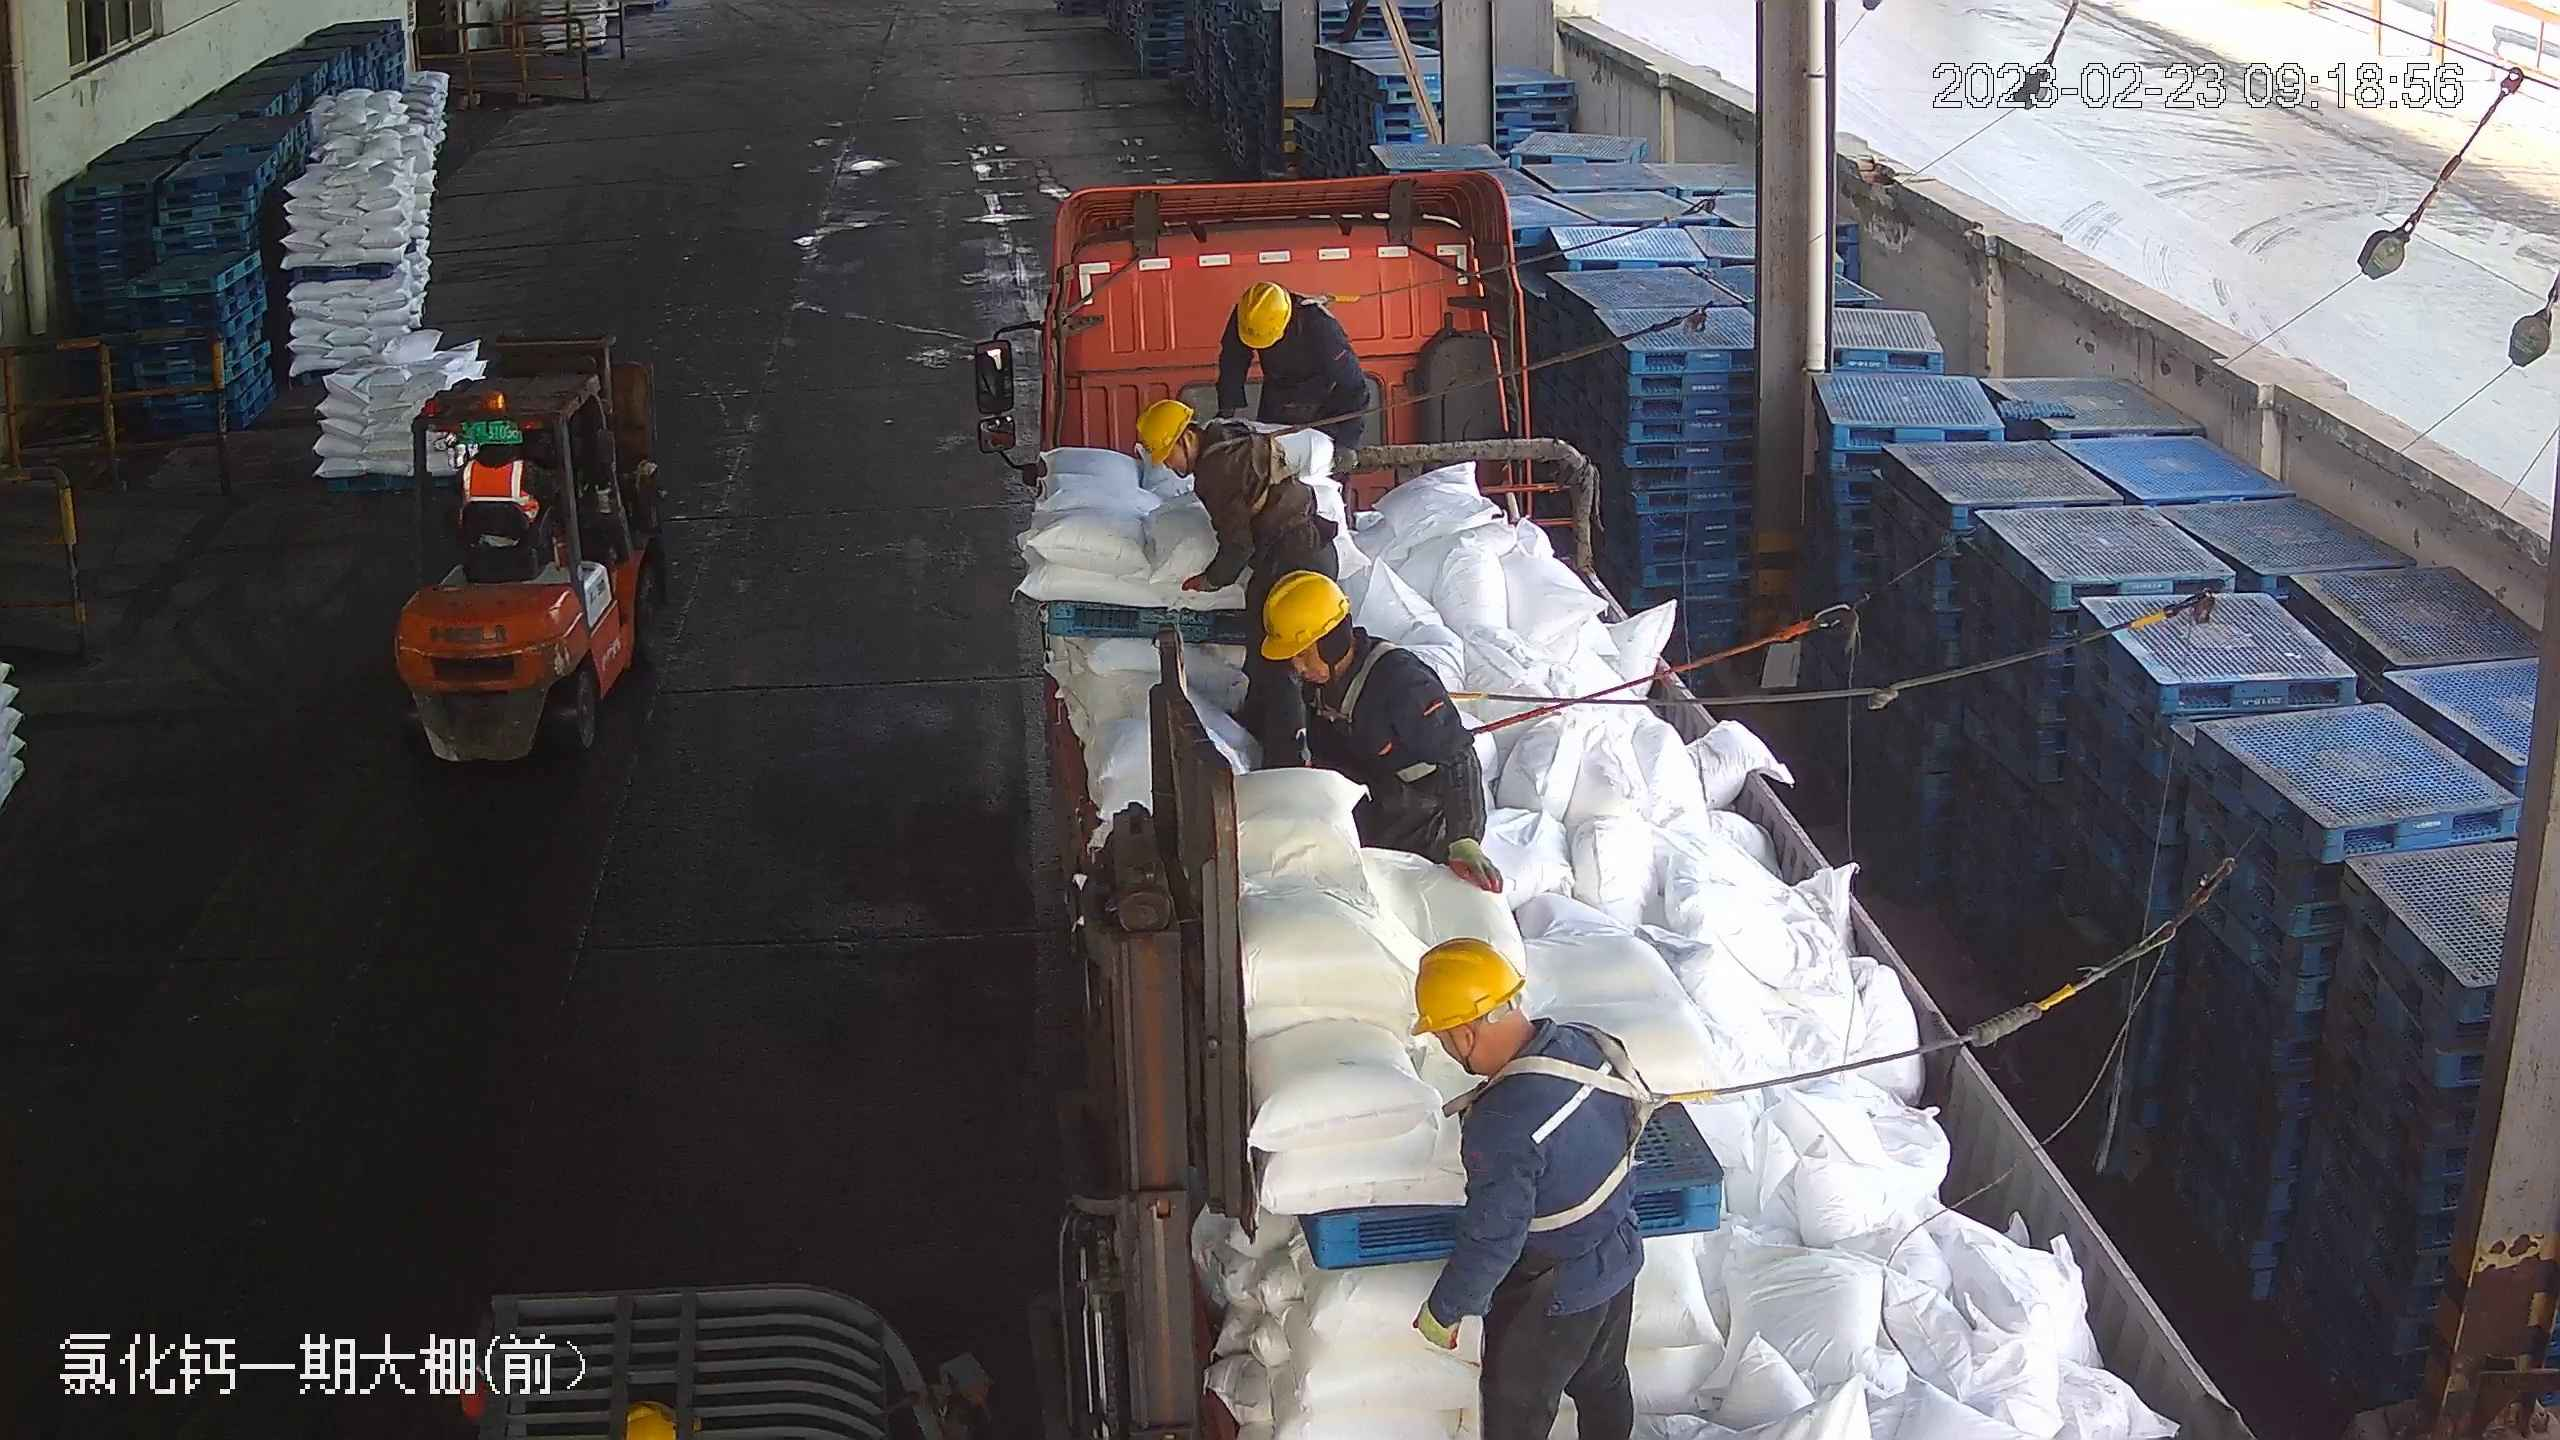belt: (1405, 934, 1659, 1440), (1460, 1036, 1713, 1230), (1308, 644, 1499, 764), (1201, 419, 1310, 518), (1296, 288, 1366, 341)
head: (1412, 935, 1627, 1183), (1261, 571, 1443, 739), (1133, 397, 1271, 505), (1229, 282, 1344, 371)
helmet: (1411, 936, 1525, 1032), (1260, 568, 1350, 658), (1133, 395, 1192, 470), (1237, 281, 1291, 351)
people: (1409, 932, 1652, 1439), (1261, 570, 1496, 894), (1135, 386, 1347, 615), (1222, 275, 1375, 476)
truck: (992, 160, 2262, 1440)
